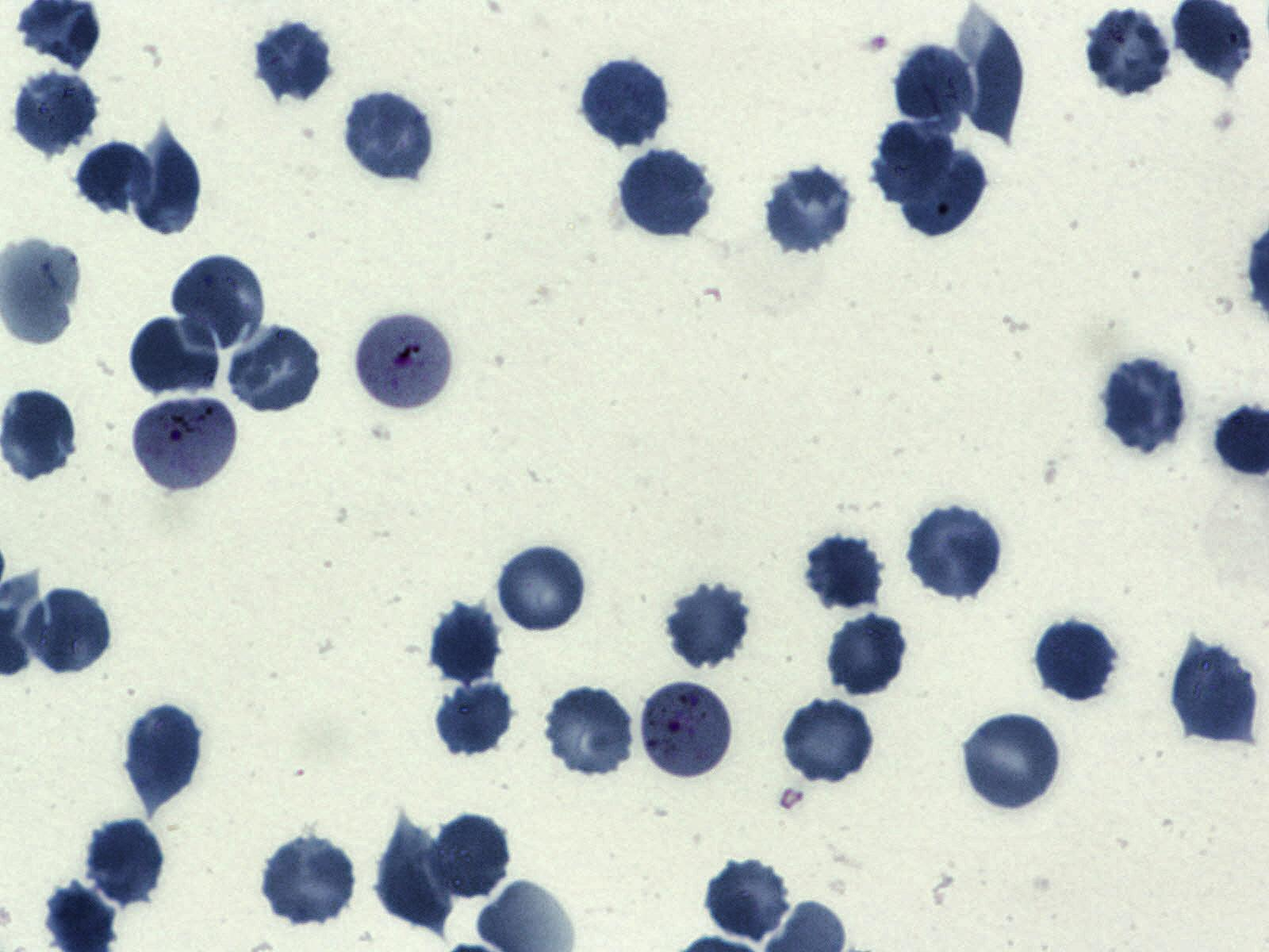Infected: (131, 395, 238, 493), (354, 311, 453, 413), (639, 681, 735, 782)
Uninfected: (962, 710, 1064, 812), (949, 6, 1023, 144), (376, 816, 454, 940), (493, 542, 588, 635), (262, 835, 358, 927), (543, 685, 637, 778), (228, 322, 324, 413), (126, 703, 203, 816), (909, 504, 1003, 596), (1171, 642, 1256, 743), (1100, 357, 1187, 455), (171, 255, 263, 347), (895, 146, 985, 240), (342, 92, 435, 180), (18, 588, 112, 675), (1083, 7, 1171, 98), (784, 697, 876, 784), (619, 151, 711, 235), (133, 126, 201, 238), (85, 818, 167, 910), (764, 166, 852, 251), (128, 317, 222, 395), (703, 858, 789, 943), (666, 583, 750, 668), (582, 60, 668, 143), (427, 816, 511, 900), (14, 69, 96, 155), (872, 119, 954, 203), (894, 44, 975, 129), (1, 390, 74, 480), (1036, 619, 1116, 701), (829, 615, 909, 694), (255, 20, 331, 101), (432, 601, 504, 684), (437, 676, 512, 755), (78, 139, 153, 216), (805, 536, 883, 609)
